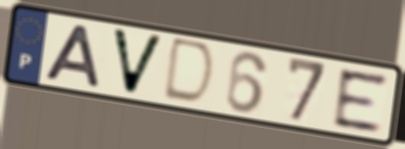6: (224, 49, 270, 116)
7: (284, 55, 329, 125)
A: (41, 22, 104, 91)
D: (159, 35, 218, 108)
E: (331, 66, 390, 135)
V: (108, 26, 167, 99)
